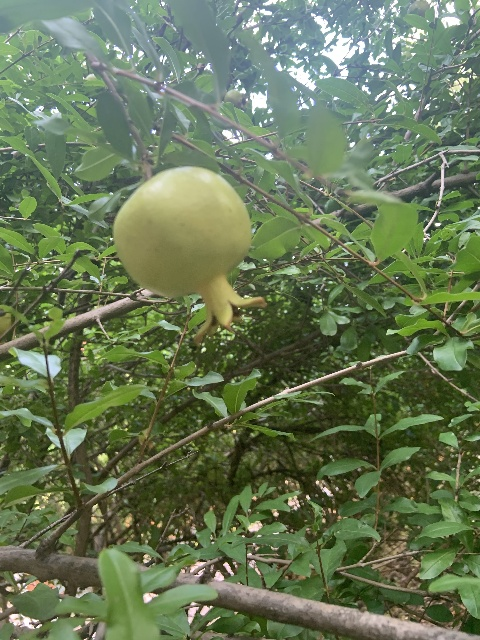mid-growth: (113, 166, 266, 345), (223, 89, 250, 109)
